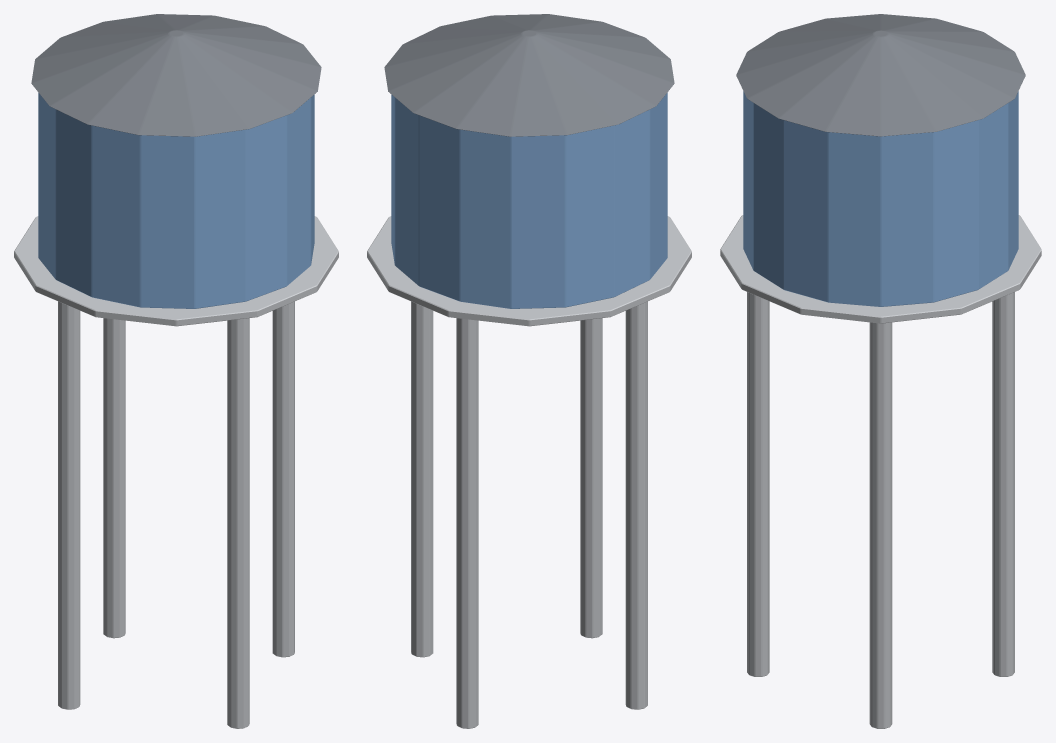
3 renders of one model, left to right at view 1: azimuth 30°, elevation 25°; view 2: azimuth 150°, elevation 25°; view 3: azimuth 270°, elevation 25°, orthographic.
Parts seen in each view (by area): view 1: 水箱.001, 支腿.002, 顶盖.006, 平台.002; view 2: 水箱.001, 支腿.002, 顶盖.006, 平台.002; view 3: 水箱.001, 顶盖.006, 支腿.002, 平台.002.
Boxes of the visible parts, x1,y1,x2,y2 form: 水箱.001: (38, 92, 314, 308); 支腿.002: (58, 301, 294, 728); 顶盖.006: (31, 14, 321, 136); 平台.002: (14, 216, 338, 326); 水箱.001: (391, 92, 667, 308); 支腿.002: (411, 301, 647, 728); 顶盖.006: (384, 14, 674, 136); 平台.002: (367, 216, 691, 326); 水箱.001: (743, 91, 1018, 306); 顶盖.006: (736, 14, 1025, 136); 支腿.002: (747, 292, 1014, 728); 平台.002: (720, 215, 1041, 323).
Bounding box in the file's own units: 839 × 1840 × 839.
